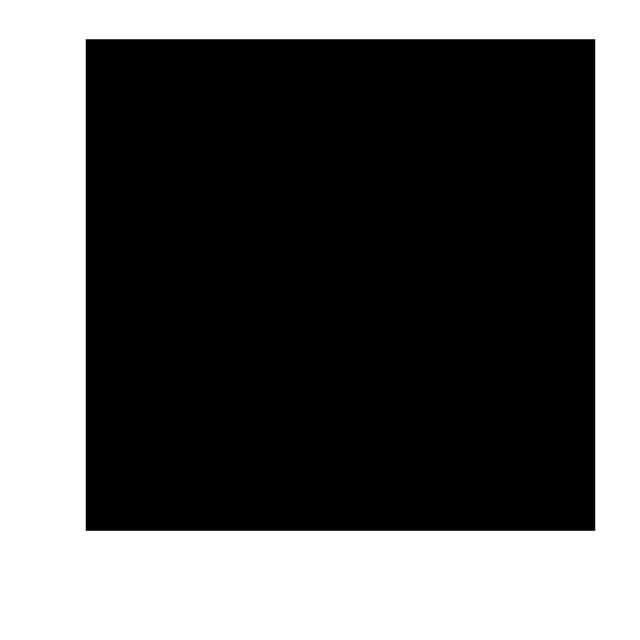A: (56, 20, 550, 548)
